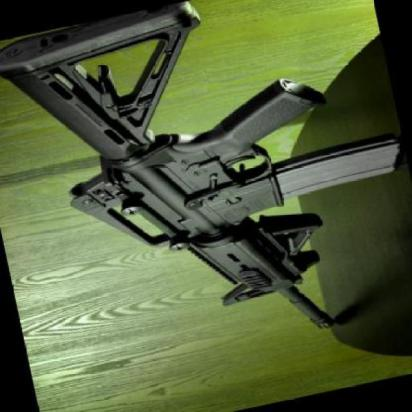Gun: (0, 0, 410, 395)
